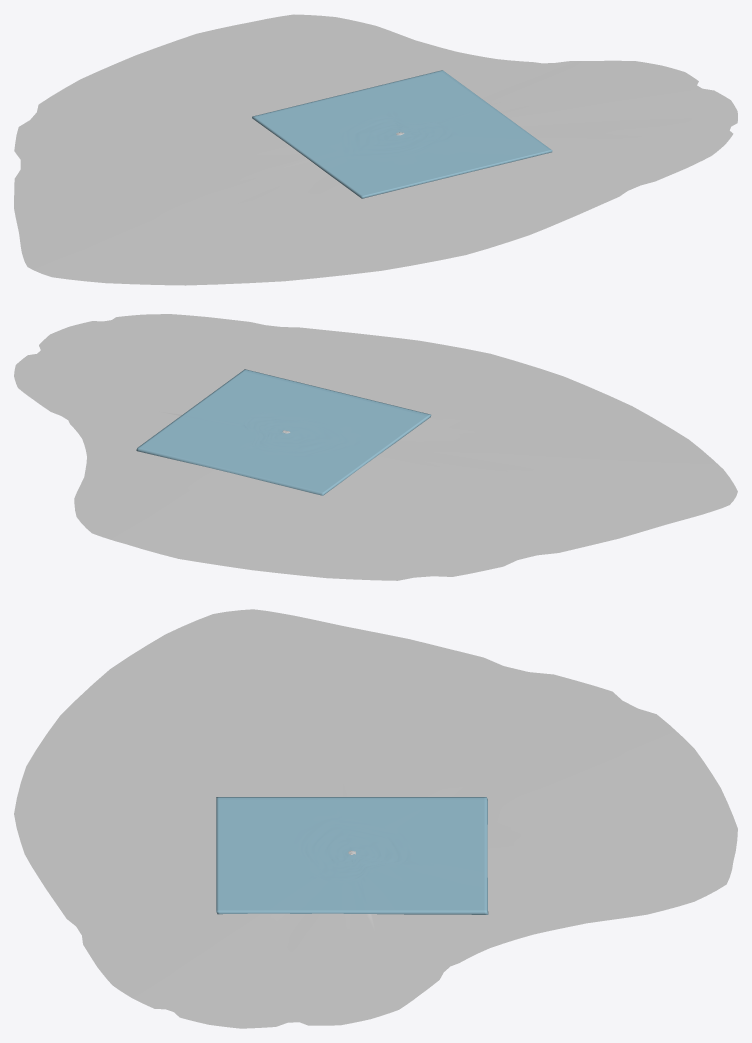
The model's file is Cozy Sloth Island.obj.
3 views of the same model, one above another, from view 1: azimuth 30°, elevation 25°; view 2: azimuth 150°, elevation 25°; view 3: azimuth 270°, elevation 25° (orthographic). The views are drawn at different scales.
Visible parts, largest first — view 1: Island, Water, Water.001; view 2: Island, Water, Water.001; view 3: Island, Water, Water.001.
Part boxes in pixels (bbox=[...]): Island: bbox=[14, 14, 737, 285]; Water: bbox=[252, 70, 552, 198]; Water.001: bbox=[252, 70, 552, 198]; Island: bbox=[14, 314, 737, 580]; Water: bbox=[136, 369, 430, 495]; Water.001: bbox=[137, 369, 430, 495]; Island: bbox=[14, 609, 737, 1028]; Water: bbox=[216, 797, 488, 914]; Water.001: bbox=[216, 797, 487, 914].
Bounding box in the file's own units: 1835 × 14.07 × 1338.
